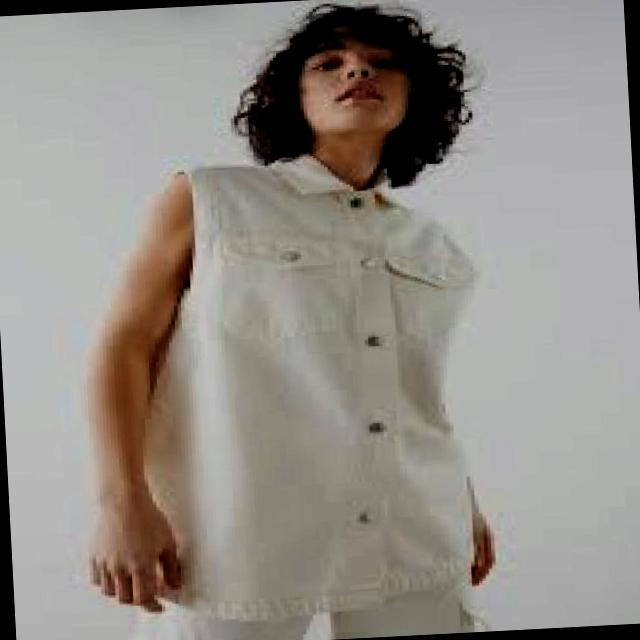no_vest: (117, 144, 498, 626)
